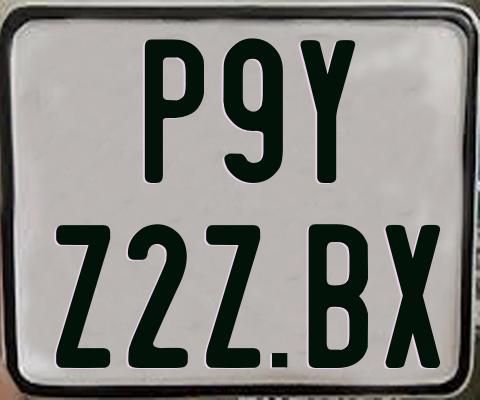2: (126, 221, 186, 365)
9: (220, 38, 281, 185)
B: (309, 221, 372, 367)
P: (144, 37, 206, 185)
X: (383, 224, 441, 373)
Y: (297, 40, 357, 188)
Z: (54, 222, 112, 370), (203, 224, 260, 371)
